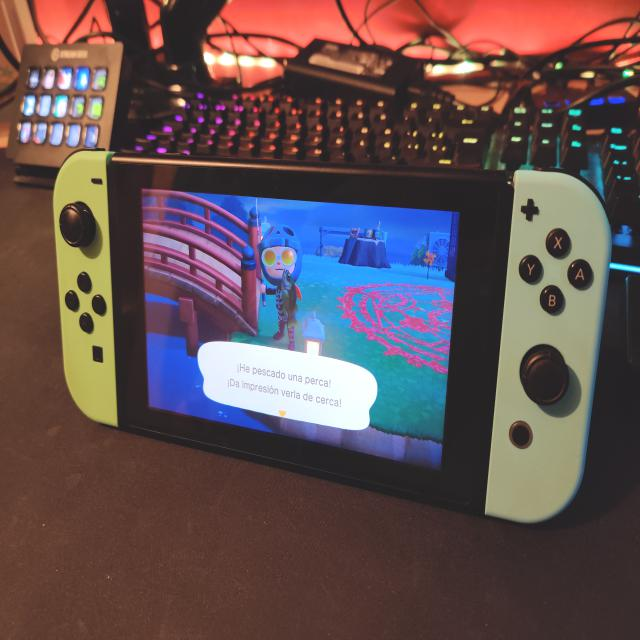text_bubble: (197, 338, 380, 433)
